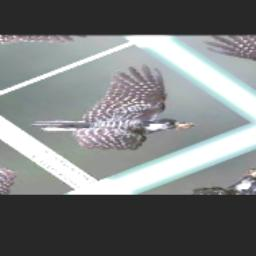Woodpecker: (8, 55, 237, 168)
